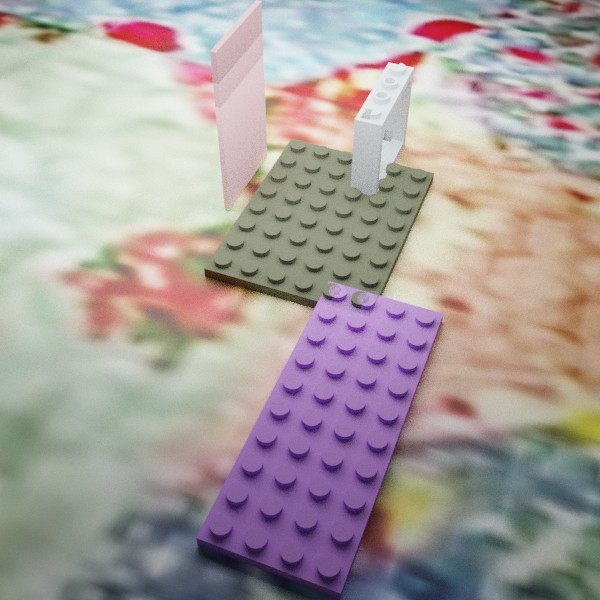lego: (196, 281, 443, 599), (204, 138, 434, 324), (210, 0, 267, 210), (349, 62, 414, 204)
